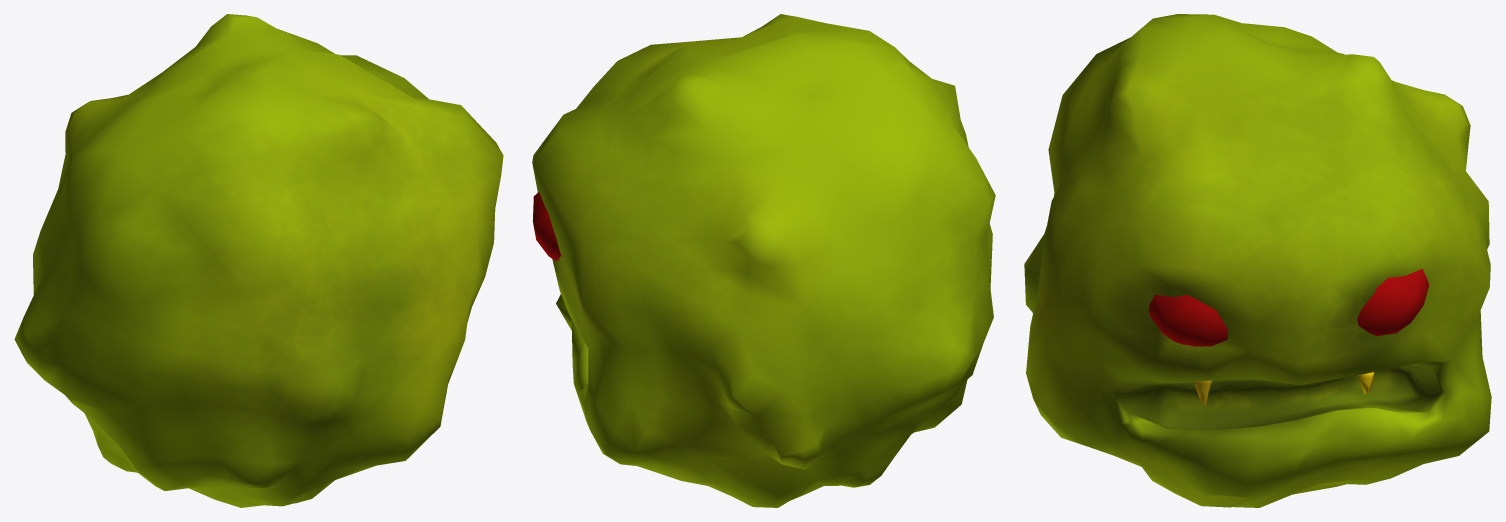
The model's file is Projectile_Alien.fbx.
3 renders of one model, left to right at view 1: azimuth 30°, elevation 25°; view 2: azimuth 150°, elevation 25°; view 3: azimuth 270°, elevation 25°, orthographic. The views are drawn at different scales.
Visible parts, largest first — view 1: Projectile_Mesh; view 2: Projectile_Mesh; view 3: Projectile_Mesh.
Boxes of the visible parts, x1,y1,x2,y2 form: Projectile_Mesh: [14, 14, 503, 507]; Projectile_Mesh: [532, 14, 995, 507]; Projectile_Mesh: [1024, 14, 1491, 507].
Size of the model in its own units: 53.33 by 52.44 by 47.92.
3 materials, 1 textured.
